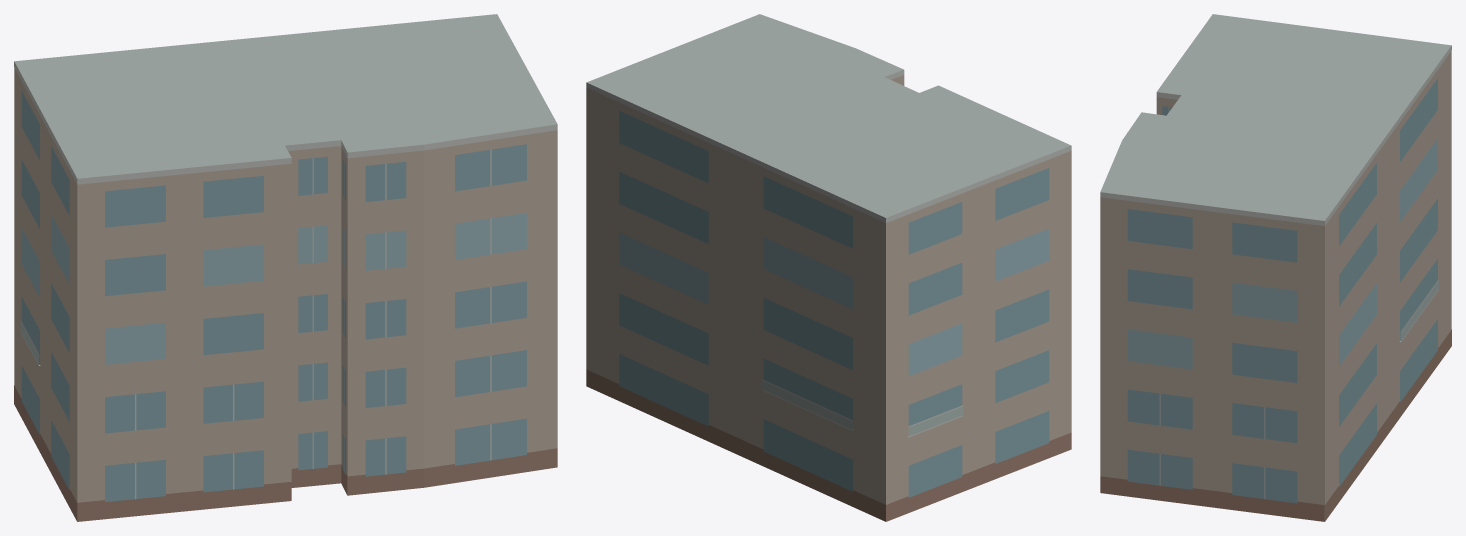
The model's file is survey-upis-32515263.glb.
3 renders of one model, left to right at view 1: azimuth 30°, elevation 25°; view 2: azimuth 150°, elevation 25°; view 3: azimuth 270°, elevation 25°, orthographic. The views are drawn at different scales.
Visible parts, largest first — view 1: survey-upis-32515263.tmp; view 2: survey-upis-32515263.tmp; view 3: survey-upis-32515263.tmp.
Boxes of the visible parts, <box> form: survey-upis-32515263.tmp: <box>14,14,557,521</box>; survey-upis-32515263.tmp: <box>586,14,1071,521</box>; survey-upis-32515263.tmp: <box>1100,14,1451,521</box>.
Size of the model in its own units: 21.19 by 14.35 by 15.21.
